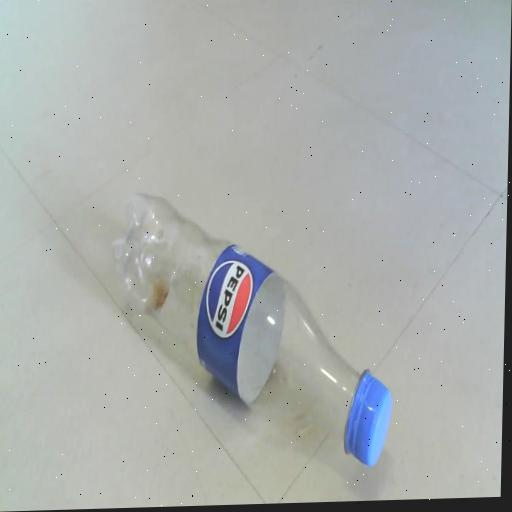bottle: (75, 163, 424, 489)
